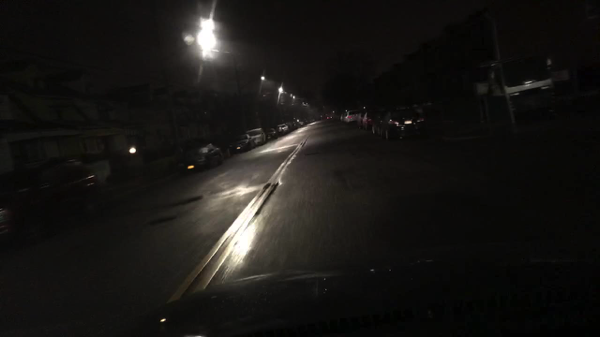car: (1, 157, 105, 250), (474, 58, 551, 113), (380, 109, 431, 142), (180, 142, 224, 173), (227, 133, 256, 154), (371, 110, 391, 139), (244, 128, 266, 147), (362, 111, 375, 132), (355, 110, 365, 130), (344, 112, 359, 124), (265, 128, 278, 140), (276, 123, 289, 134), (285, 122, 294, 131), (292, 122, 299, 129), (340, 113, 344, 122), (298, 121, 304, 126), (304, 120, 310, 124), (310, 119, 315, 122)
